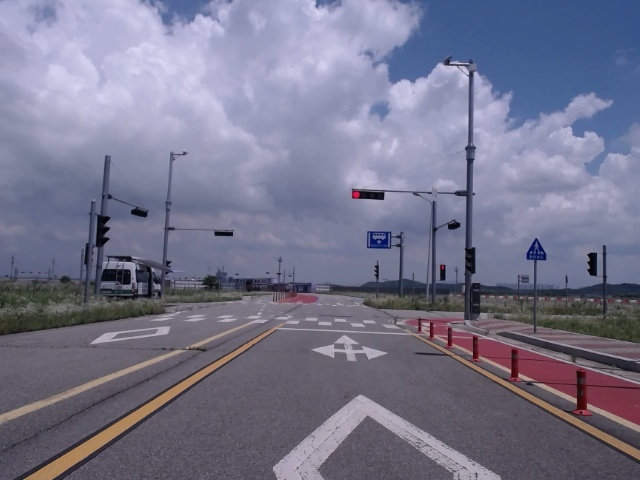red_4: (352, 190, 384, 200)
